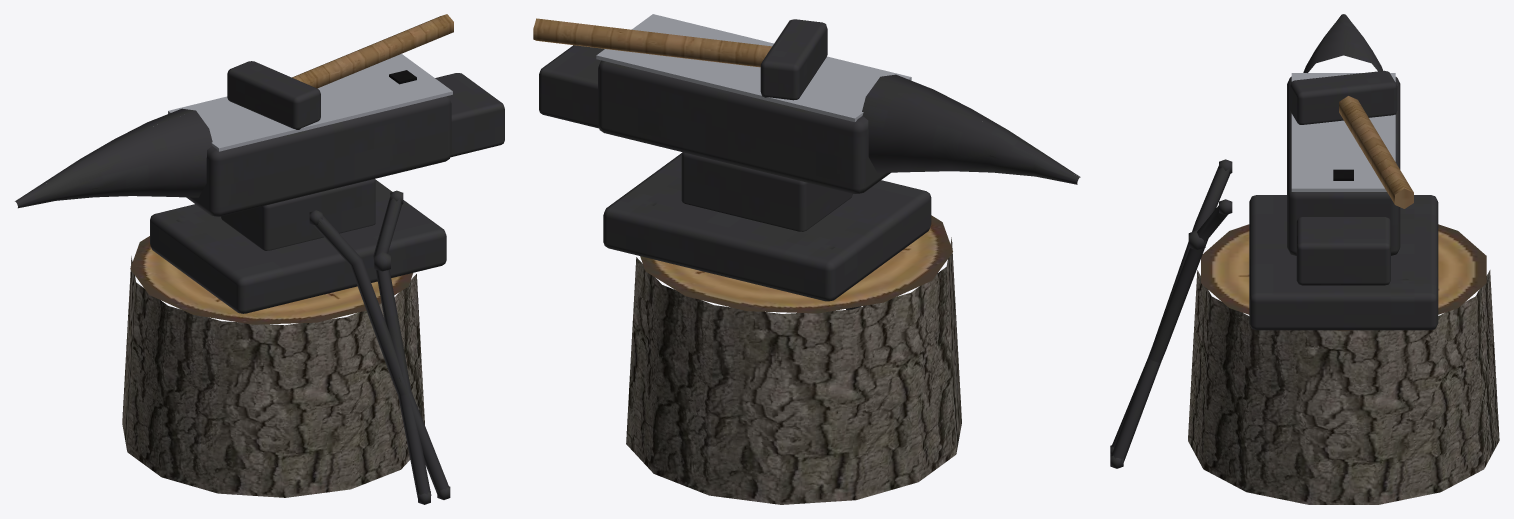
File: prop_anvil.glb
3 renders of one model, left to right at view 1: azimuth 30°, elevation 25°; view 2: azimuth 150°, elevation 25°; view 3: azimuth 270°, elevation 25°, orthographic. The views are drawn at different scales.
Parts seen in each view (by area): view 1: prop; view 2: prop; view 3: prop.
Boxes of the visible parts, <box> form: prop: <box>15,14,504,504</box>; prop: <box>533,14,1080,504</box>; prop: <box>1110,14,1499,504</box>.
Size of the model in its own units: 0.5806 by 0.42 by 0.412.
Materials: 5 (4 with a texture image).
